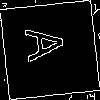A: (25, 24, 74, 64)
